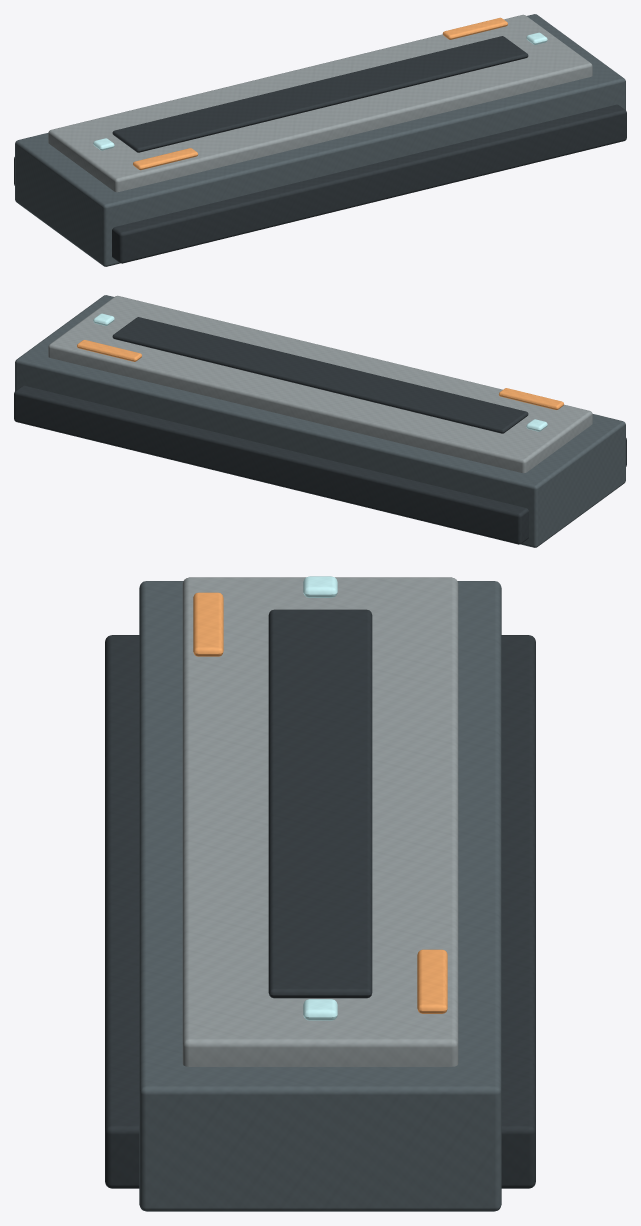
The model's file is FloorCableCover.glb.
3 views of the same model, one above another, from view 1: azimuth 30°, elevation 25°; view 2: azimuth 150°, elevation 25°; view 3: azimuth 270°, elevation 25° (orthographic). The views are drawn at different scales.
Parts seen in each view (by area): view 1: FloorCableCover_Mesh; view 2: FloorCableCover_Mesh; view 3: FloorCableCover_Mesh.
Boxes of the visible parts, x1,y1,x2,y2 form: FloorCableCover_Mesh: (14, 14, 626, 266); FloorCableCover_Mesh: (14, 295, 626, 547); FloorCableCover_Mesh: (105, 576, 535, 1211).
Size of the model in its own units: 1.4 by 0.212 by 0.5.
5 materials, 5 textured.
